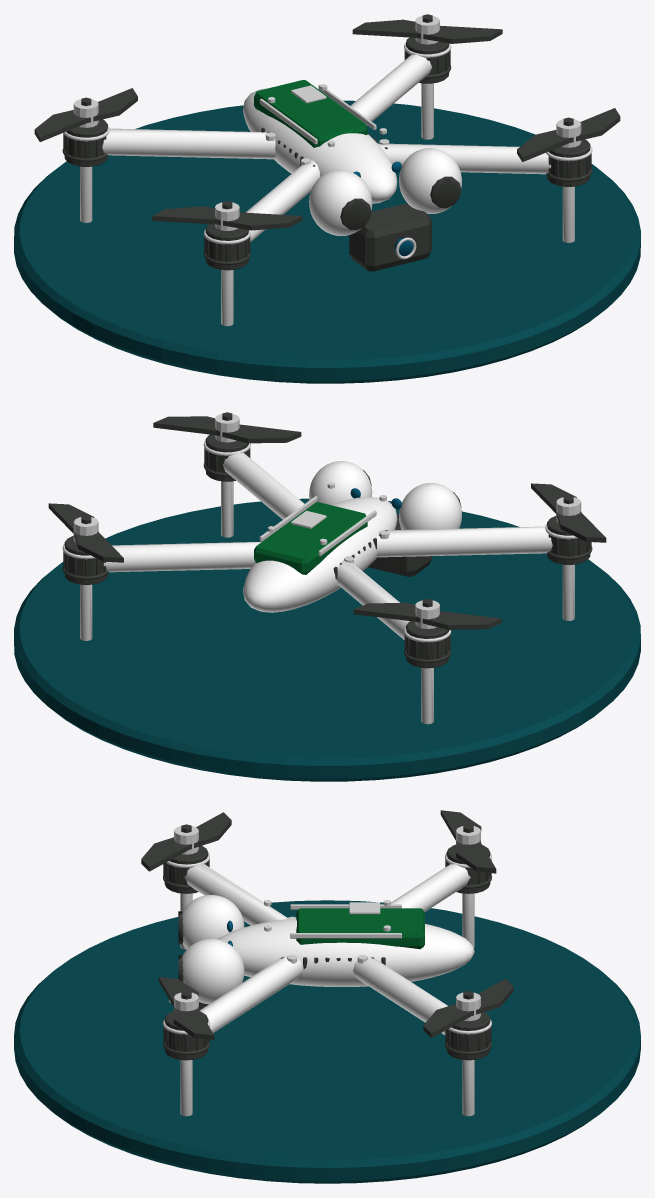
Rendered from parrot-anafi-ai.glb.
3 renders of one model, top to bottom at view 1: azimuth 30°, elevation 25°; view 2: azimuth 150°, elevation 25°; view 3: azimuth 270°, elevation 25°, orthographic.
Visible parts, largest first — view 1: pedestal, body; view 2: pedestal, body; view 3: pedestal, body.
Boxes of the visible parts, <box> form: pedestal: <box>14,100,640,383</box>; body: <box>34,14,620,326</box>; pedestal: <box>14,498,640,781</box>; body: <box>48,412,606,724</box>; pedestal: <box>14,900,640,1183</box>; body: <box>141,810,513,1116</box>.
Bounding box in the file's own units: 4.4 × 1.13 × 4.4.
